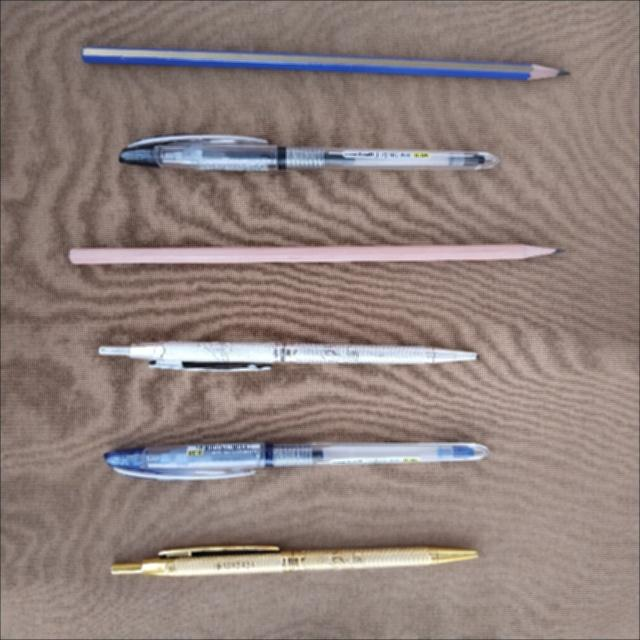pen: (104, 443, 488, 480), (119, 135, 498, 170)
pencil: (82, 47, 567, 80), (69, 244, 561, 264)
signature pen: (111, 546, 477, 576), (99, 342, 476, 371)
